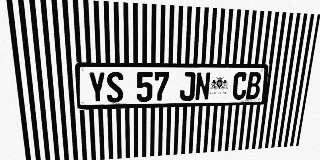5: (137, 72, 153, 102)
7: (153, 72, 169, 102)
B: (246, 72, 262, 99)
C: (232, 72, 248, 100)
J: (179, 72, 196, 101)
N: (195, 72, 211, 101)
S: (106, 72, 124, 103)
Y: (88, 72, 106, 103)
